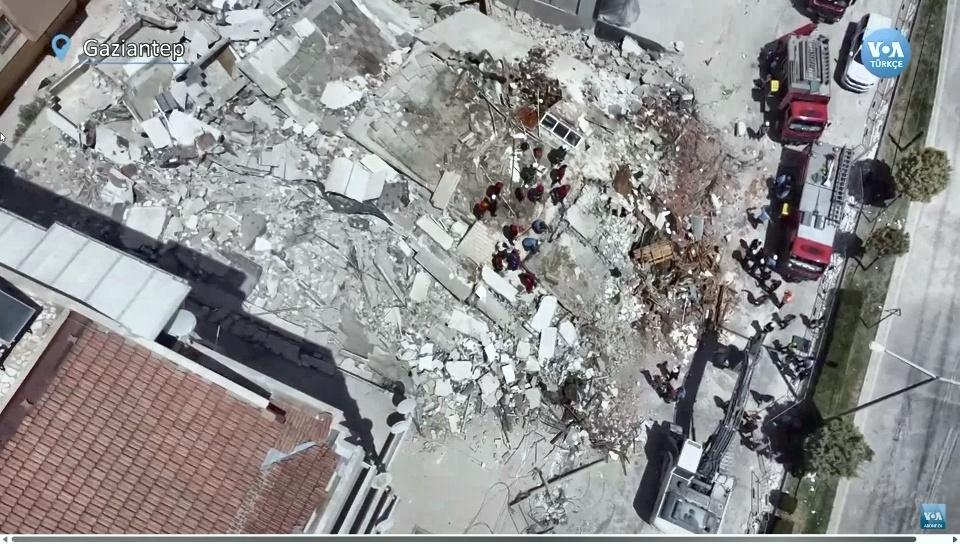kapali: (547, 55, 885, 536)
